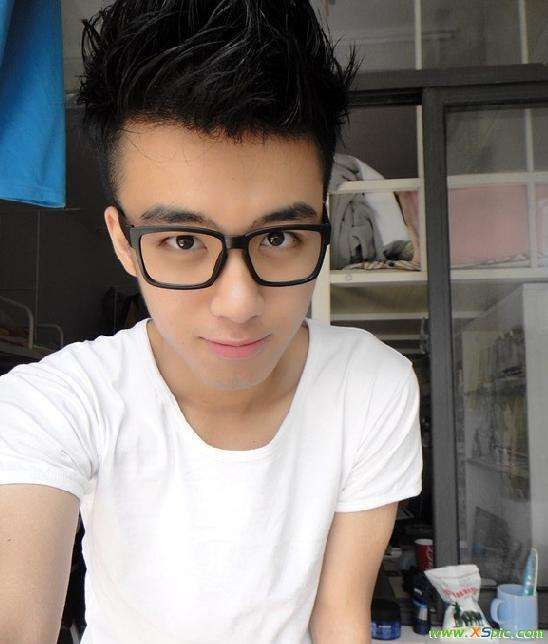person: (52, 1, 412, 599)
